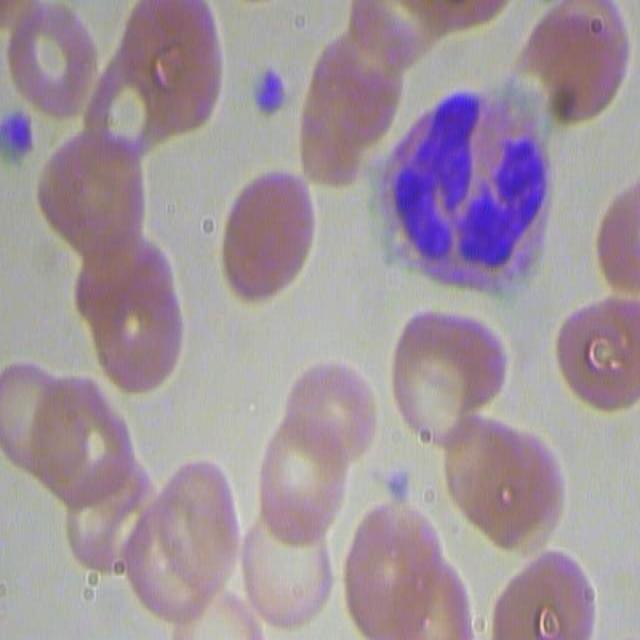RBC: (36, 378, 152, 578), (120, 456, 235, 636), (348, 497, 485, 640), (385, 291, 504, 452), (302, 12, 404, 195), (81, 230, 188, 402), (442, 413, 564, 557), (516, 0, 633, 121), (120, 2, 224, 134), (215, 168, 318, 300), (35, 129, 142, 256), (232, 511, 336, 631), (246, 422, 345, 538), (6, 1, 98, 122), (554, 289, 638, 419), (494, 547, 603, 639), (89, 55, 178, 164), (593, 168, 640, 297)
WBC: (375, 80, 550, 297)
platelets: (252, 64, 290, 124), (377, 466, 414, 509)
